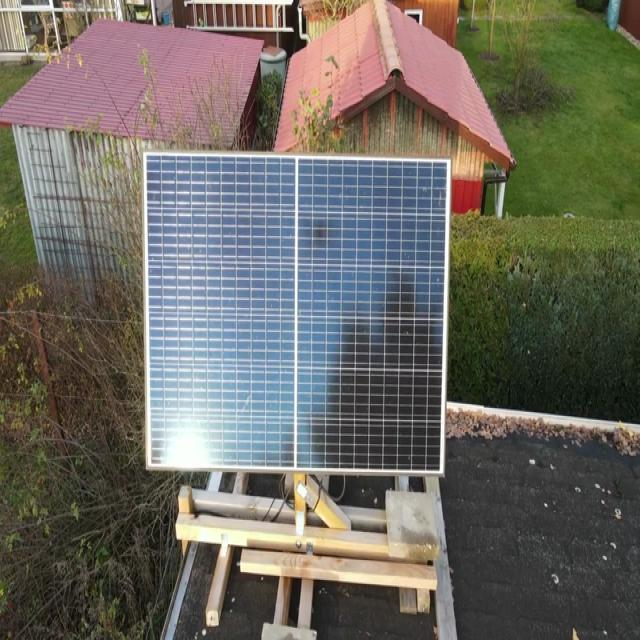Normal Solar Panel: (144, 153, 450, 475)
